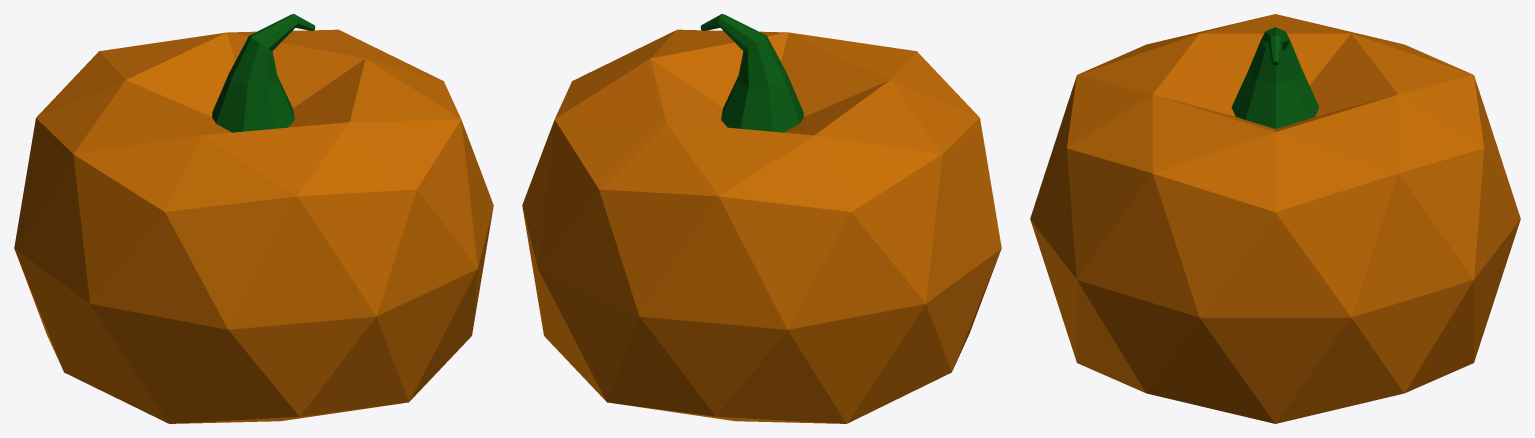
The model's file is Bush_Pumpkin_01.fbx.
3 renders of one model, left to right at view 1: azimuth 30°, elevation 25°; view 2: azimuth 150°, elevation 25°; view 3: azimuth 270°, elevation 25°, orthographic.
Parts seen in each view (by area): view 1: Icosphere; view 2: Icosphere; view 3: Icosphere.
Boxes of the visible parts, x1,y1,x2,y2 form: Icosphere: (14,14,493,423); Icosphere: (522,14,1001,423); Icosphere: (1030,14,1520,423).
Bounding box in the file's own units: 190 × 155 × 200.
